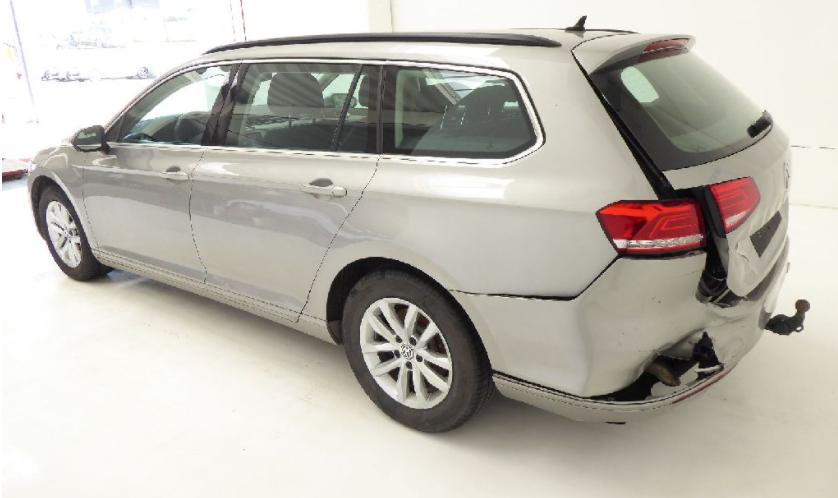Back-bumper: (449, 244, 791, 422)
Back-door: (189, 59, 387, 313)
Back-wheel: (341, 271, 493, 433)
Back-window: (210, 62, 383, 154), (379, 65, 537, 159)
Back-windshield: (593, 46, 772, 170)
Fender: (27, 145, 98, 247)
Front-door: (82, 59, 244, 283)
Front-wheel: (39, 185, 114, 280)
Front-window: (105, 65, 239, 145)
Headlight: (27, 161, 37, 177)
Mirror: (73, 126, 109, 153)
Quarter-panel: (302, 142, 656, 321)
Rocker-panel: (92, 248, 336, 346)
Roof: (210, 27, 631, 50)
Tail-light: (596, 199, 705, 255), (709, 177, 760, 233)
Trunk: (572, 34, 791, 295)
